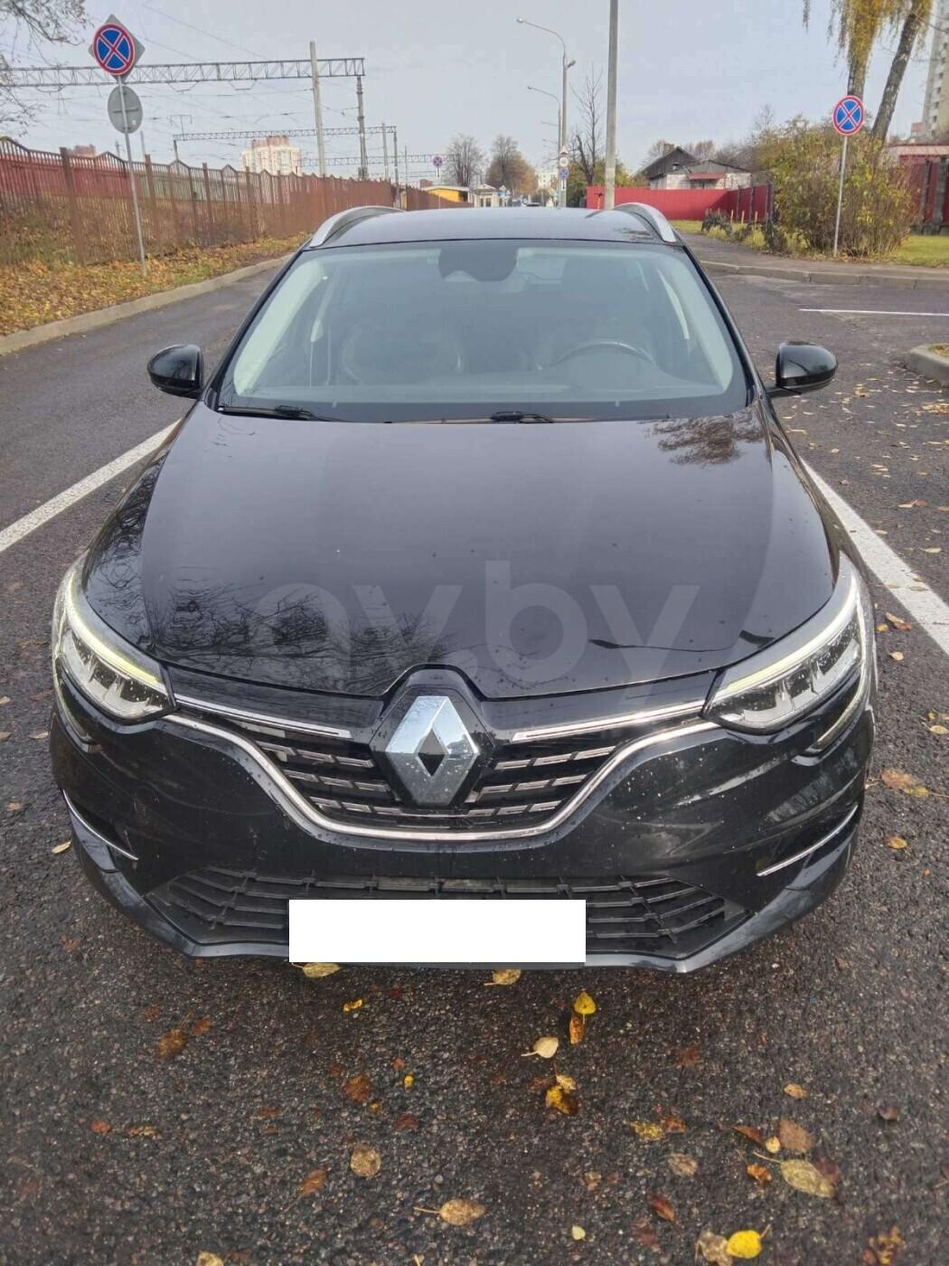Megane_2020: (49, 199, 877, 986)
